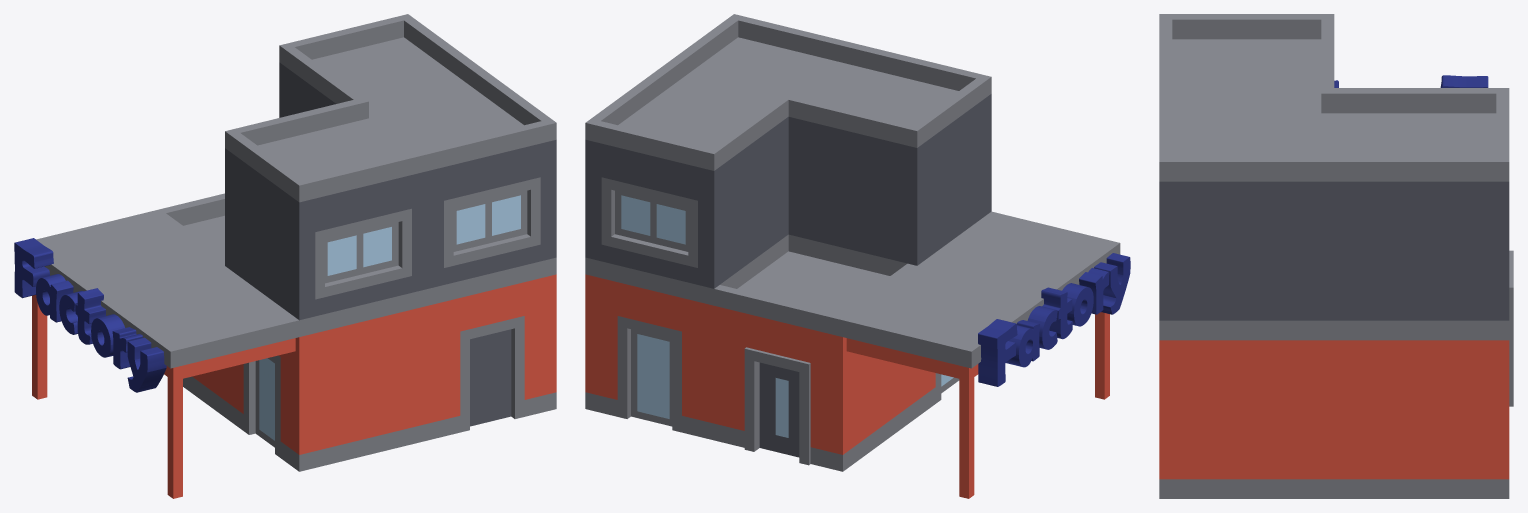
The model's file is factory v1.fbx.
The picture shows the model from 3 angles, left to right: view 1: azimuth 30°, elevation 25°; view 2: azimuth 150°, elevation 25°; view 3: azimuth 270°, elevation 25°; orthographic projection. The views are drawn at different scales.
Visible parts, largest first — view 1: MeshBody1, Body13, Body8, Body7, Body11, Body9, Body10, Body12; view 2: MeshBody1, Body13, Body8, Body7, Body11, Body9, Body12, Body10; view 3: MeshBody1, Body13.
Boxes of the visible parts, box(x1,y1,x2,y2) form: MeshBody1: box(32, 14, 556, 498); Body13: box(14, 238, 53, 298); Body8: box(127, 337, 166, 392); Body7: box(36, 274, 73, 322); Body11: box(75, 288, 105, 344); Body9: box(91, 314, 124, 357); Body10: box(112, 327, 142, 369); Body12: box(59, 291, 83, 334); MeshBody1: box(585, 14, 1120, 498); Body13: box(978, 319, 1017, 386); Body8: box(1094, 253, 1130, 314); Body7: box(1006, 320, 1039, 367); Body11: box(1041, 287, 1072, 339); Body9: box(1062, 283, 1093, 326); Body12: box(1027, 306, 1057, 349); Body10: box(1079, 268, 1109, 314); MeshBody1: box(1159, 14, 1513, 498); Body13: box(1440, 75, 1488, 87).
Bounding box in the file's own units: 1252 × 850 × 810.
